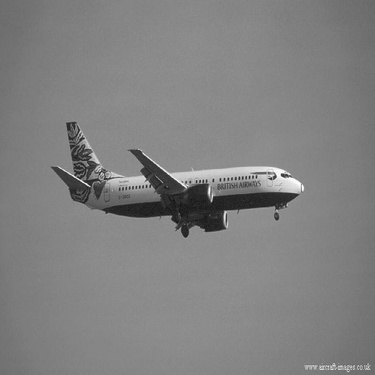airplane: (40, 113, 309, 244)
